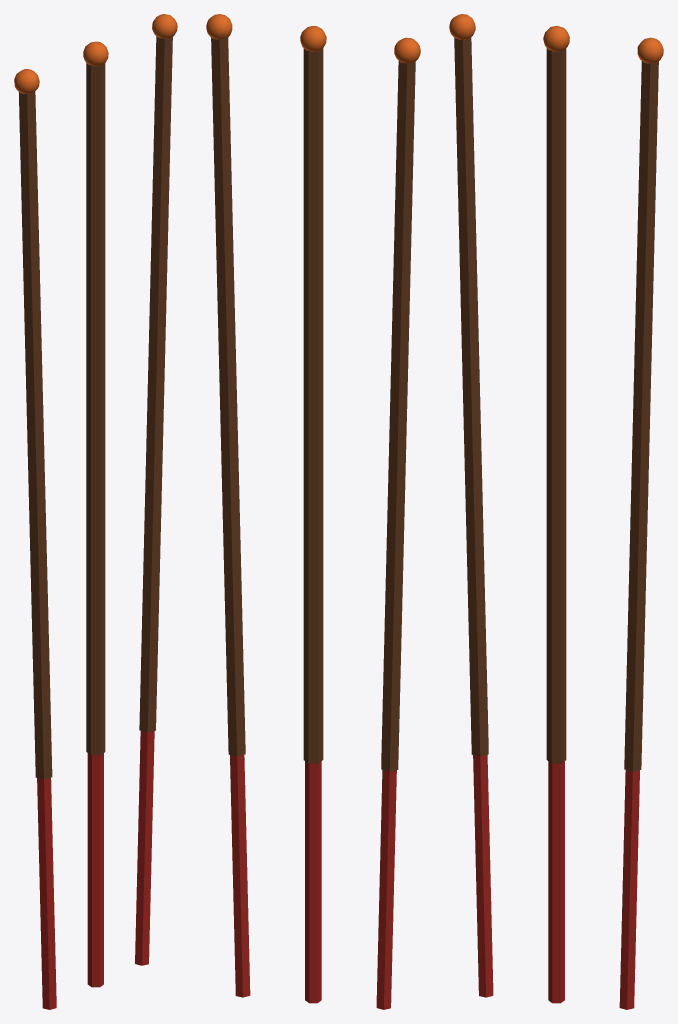
Rendered from nhang_thap.glb.
3 views of the same model, side by side, from view 1: azimuth 30°, elevation 25°; view 2: azimuth 150°, elevation 25°; view 3: azimuth 330°, elevation 25° (orthographic). The views are drawn at different scales.
Visible parts, largest first — view 1: nhang_thap; view 2: nhang_thap; view 3: nhang_thap.
Boxes of the visible parts, x1=… form: nhang_thap: x1=14, y1=14, x2=177, y2=1009; nhang_thap: x1=206, y1=14, x2=420, y2=1009; nhang_thap: x1=449, y1=14, x2=663, y2=1009.
Size of the model in its own units: 0.0574 by 0.2836 by 0.019.
